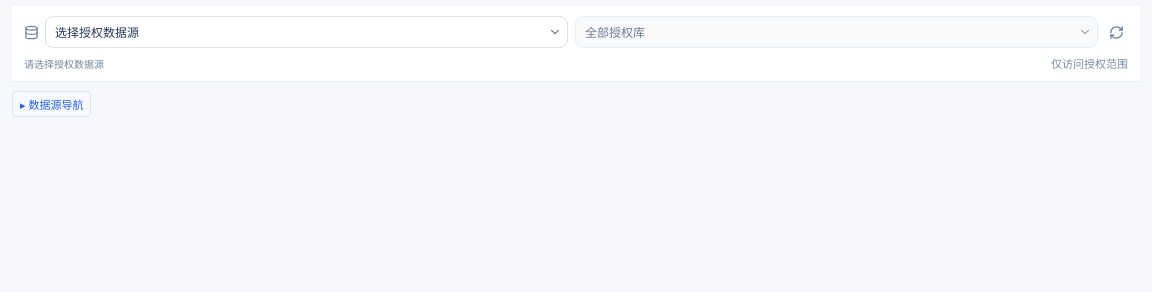
Schema Explorer API integration › uses the submitted search when paging and returns to page one after a page-size change
Click the button "▸ 数据源导航": (52, 104) [12,91,91,117]
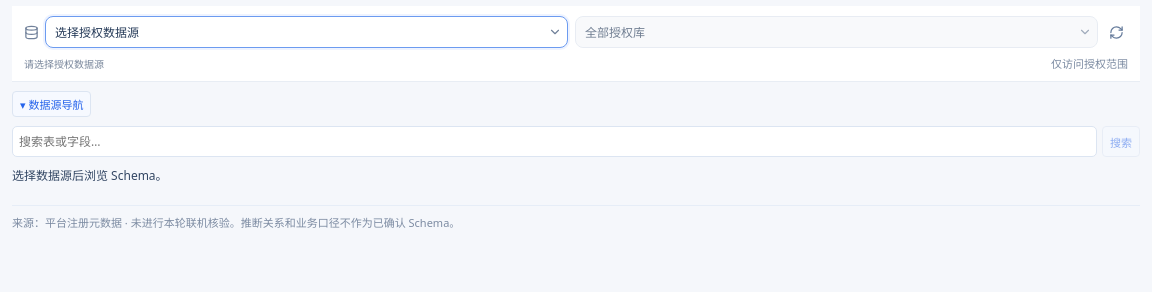
Click the dropdown named "选择数据源": (294, 32) [46,17,542,47]
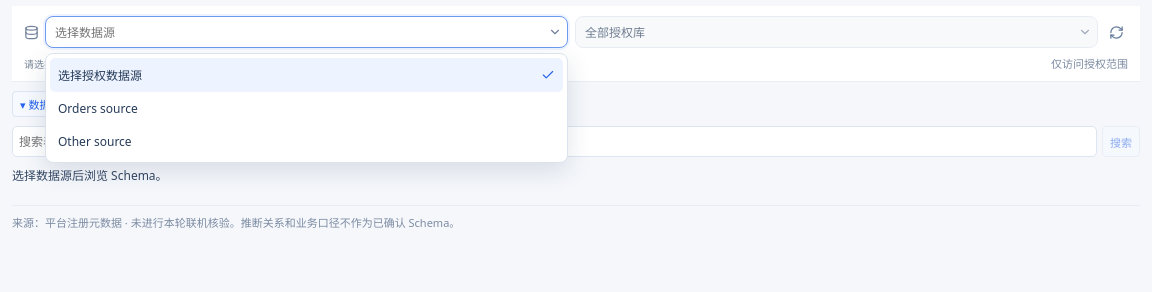
Result: the option "Orders source" is shown
Click the option "Orders source": (98, 108) [50,92,563,125]
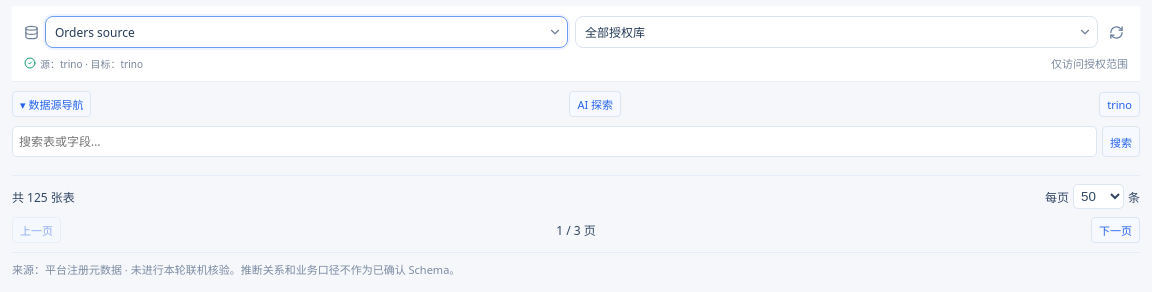
In the field named "搜索授权表": (554, 142) [12,126,1097,157], type "orders"
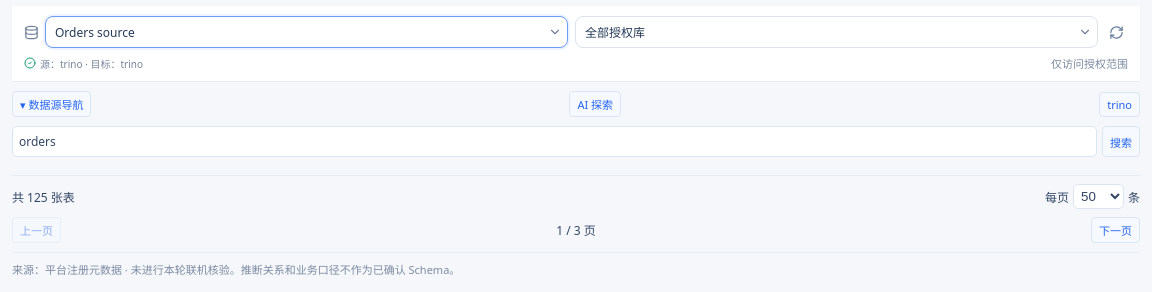
Submit the form, box [12,126,1140,157]
Replace the text in the field named "搜索授权表" with "unsubmitted": (554, 142) [12,126,1097,157]
Click the button "下一页": (1116, 230) [1091,217,1140,243]
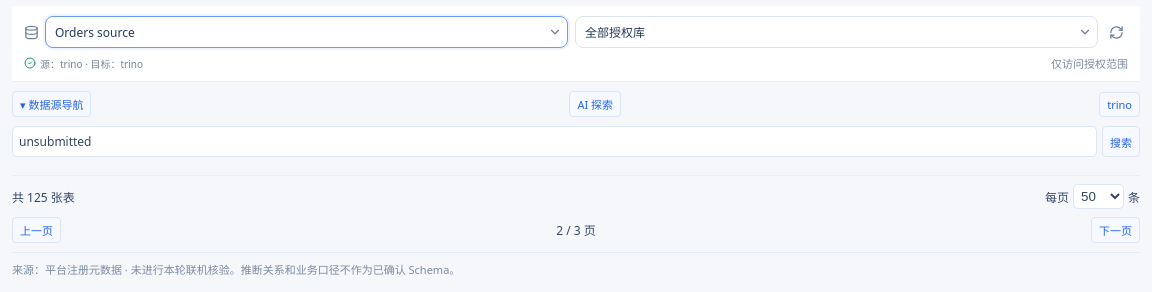
Select "20" in the dropdown named "每页表数量": (1098, 196) [1073,184,1124,209]
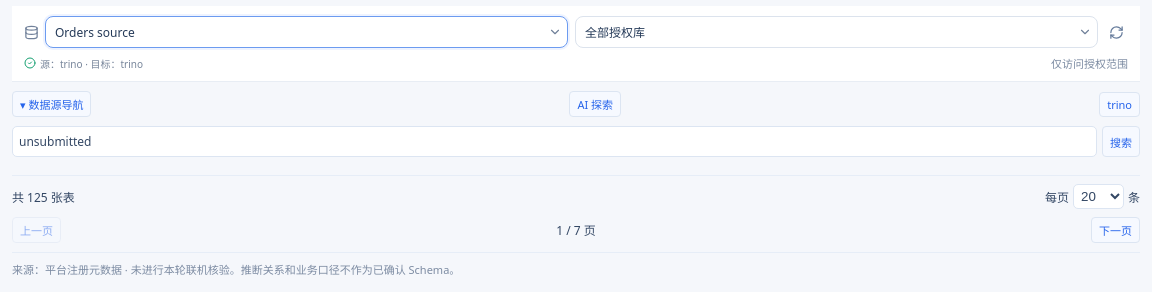
Result: the footer shows "1 / 7 页" at [556,222,596,239]
